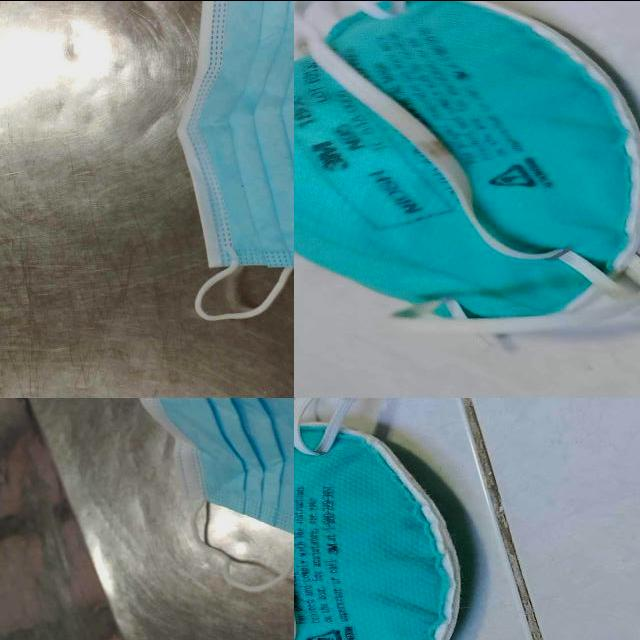General: (291, 2, 638, 322), (291, 403, 464, 640)
Infectious: (175, 1, 295, 321), (138, 397, 294, 535)
Sharps: (455, 397, 544, 640)
